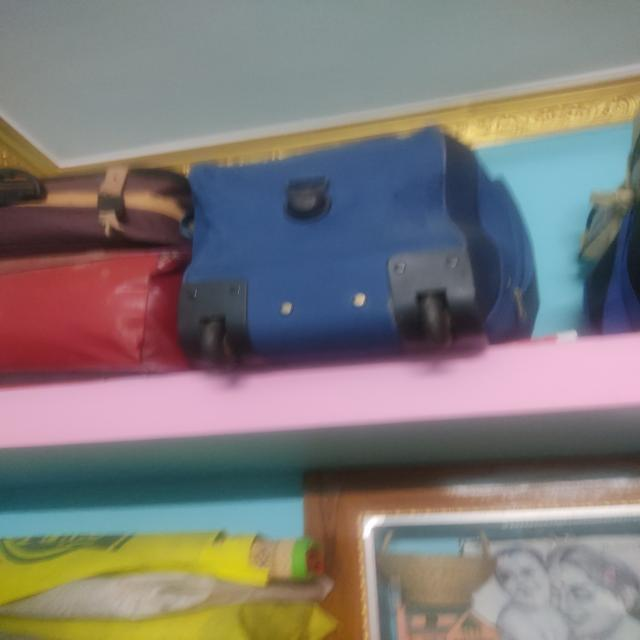suitcaserotation: (169, 119, 543, 374)
